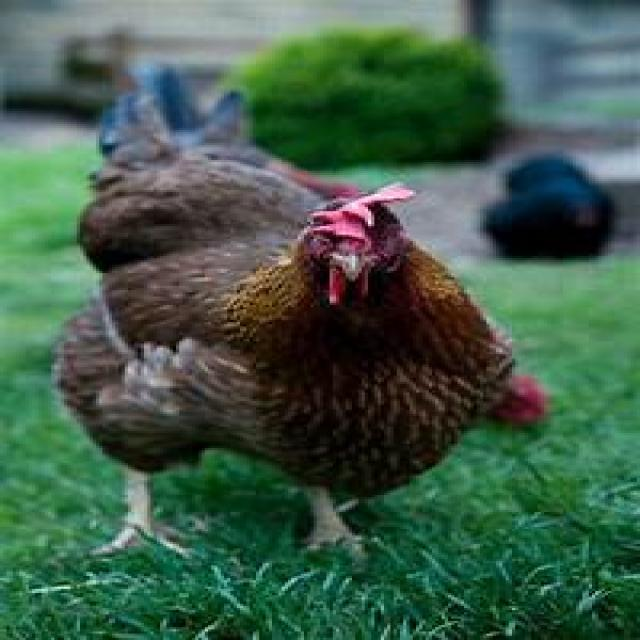chicken: (46, 59, 502, 568)
